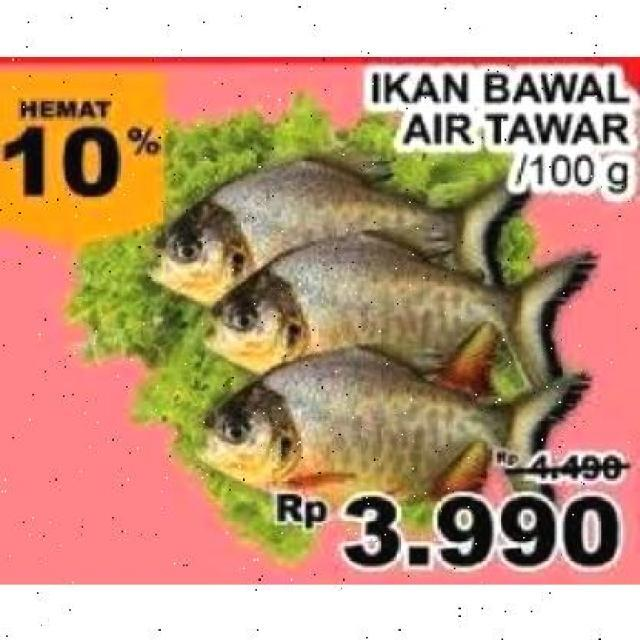ikan-pacu: (196, 353, 598, 499), (152, 161, 528, 304), (210, 241, 590, 377)
